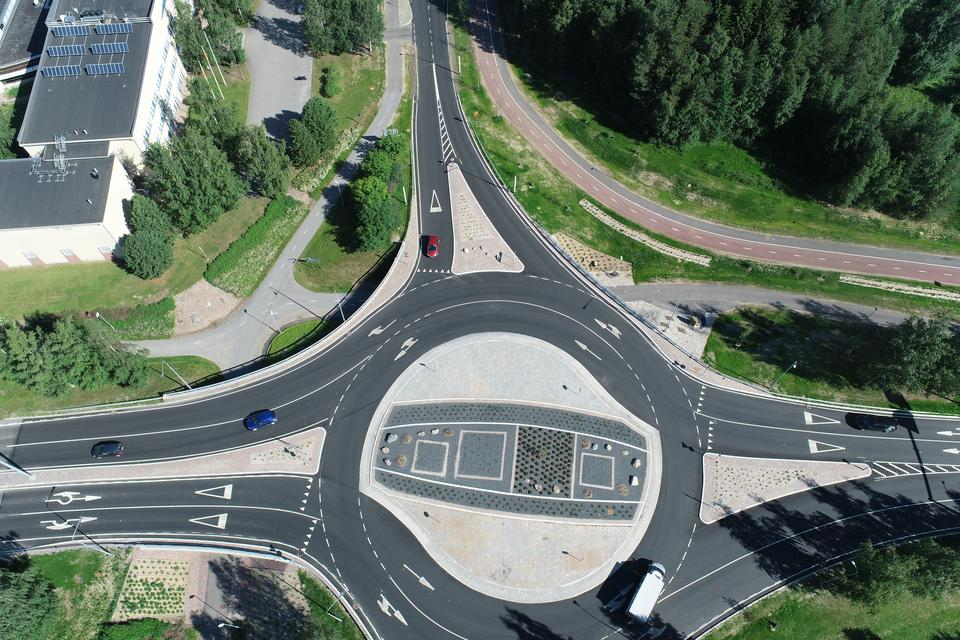intersection: (369, 18, 459, 48)
roundabout: (254, 229, 766, 640)
